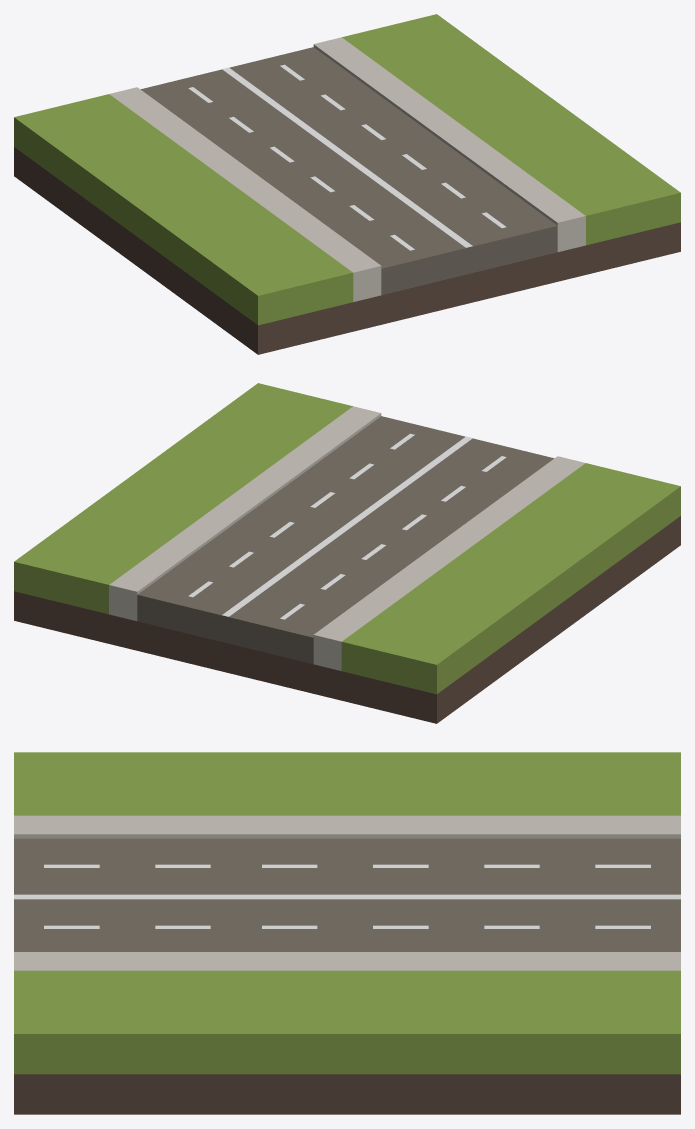
File: mainroad-tile-straight.fbx
The picture shows the model from 3 angles, top to bottom: view 1: azimuth 30°, elevation 25°; view 2: azimuth 150°, elevation 25°; view 3: azimuth 270°, elevation 25°; orthographic projection. The views are drawn at different scales.
Parts seen in each view (by area): view 1: mainroad-tile-straight; view 2: mainroad-tile-straight; view 3: mainroad-tile-straight.
Part boxes in pixels (x1=…): mainroad-tile-straight: x1=14, y1=14, x2=680, y2=354; mainroad-tile-straight: x1=14, y1=383, x2=680, y2=723; mainroad-tile-straight: x1=14, y1=752, x2=680, y2=1114.
Size of the model in its own units: 3000 by 400 by 3000.
